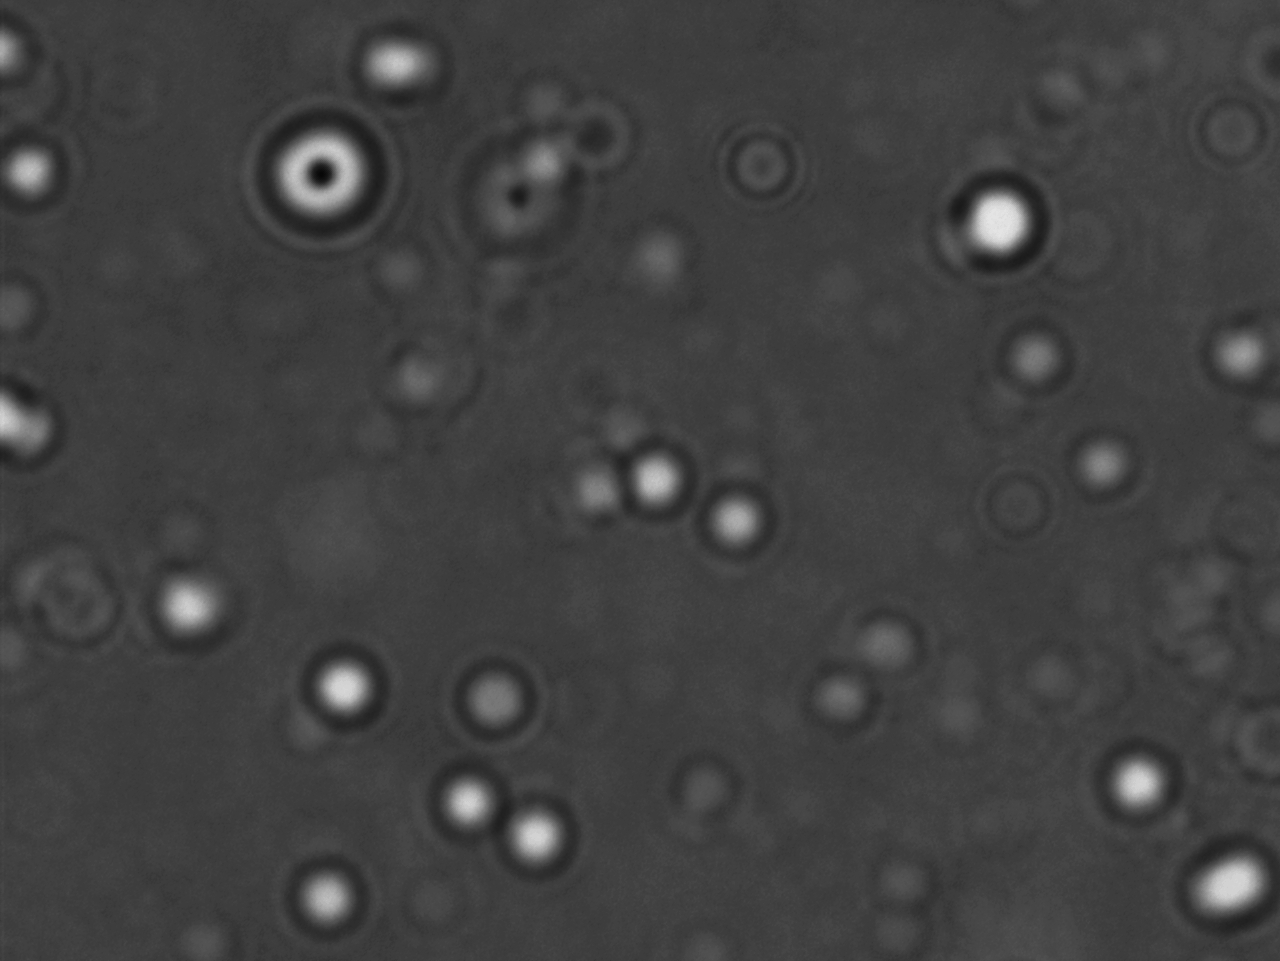depth:24: (249, 101, 393, 243)
